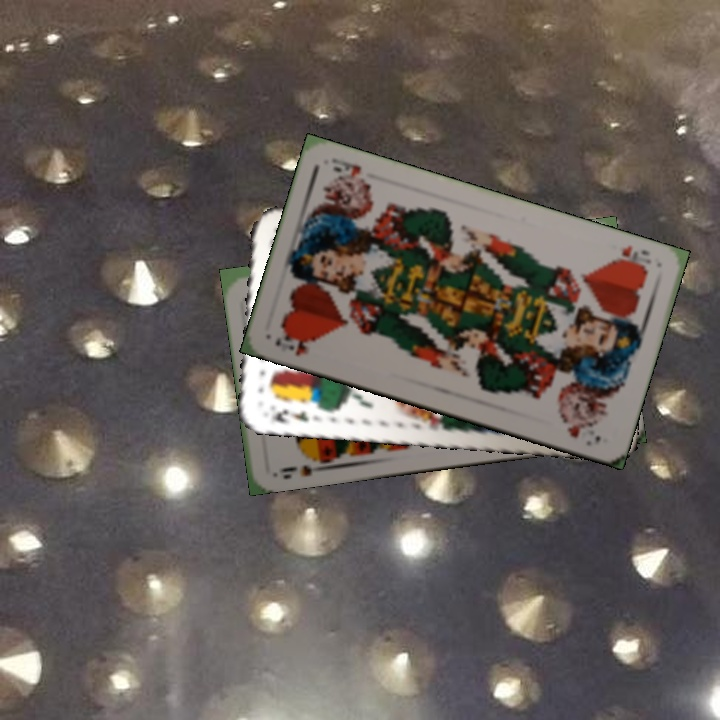EK: (268, 405, 312, 426)
HO: (608, 241, 654, 274), (271, 328, 318, 359)
S9: (272, 450, 331, 482)
